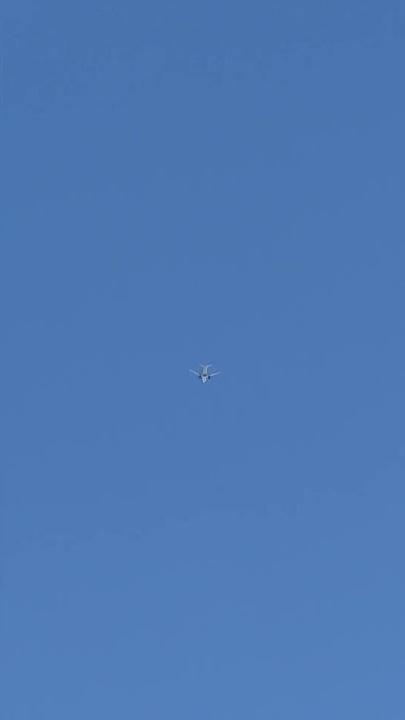Plane: (183, 352, 226, 394)
